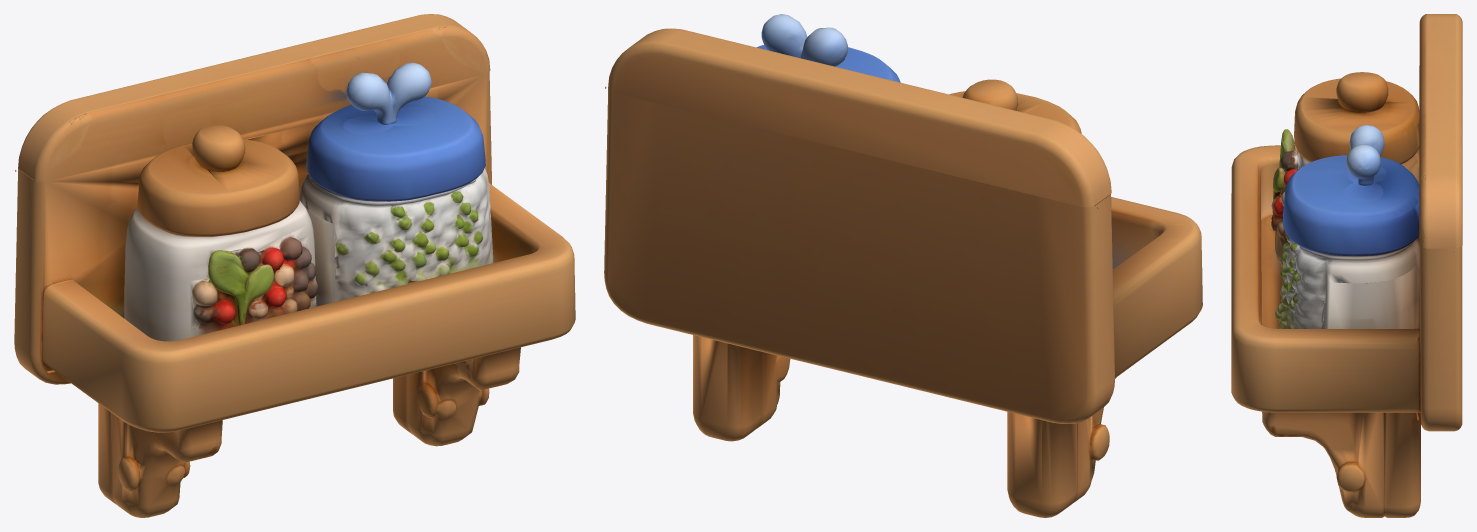
The model's file is wall-storage-box.glb.
The picture shows the model from 3 angles, left to right: view 1: azimuth 30°, elevation 25°; view 2: azimuth 150°, elevation 25°; view 3: azimuth 270°, elevation 25°; orthographic projection. The views are drawn at different scales.
Visible parts, largest first — view 1: wall_storage_box_mesh; view 2: wall_storage_box_mesh; view 3: wall_storage_box_mesh.
Part boxes in pixels (x1,y1,x2,y2): wall_storage_box_mesh: (14, 14, 575, 517); wall_storage_box_mesh: (604, 14, 1202, 517); wall_storage_box_mesh: (1231, 14, 1462, 517).
Size of the model in its own units: 0.38 by 0.3015 by 0.1802.
Materials: 1 (1 with a texture image).
